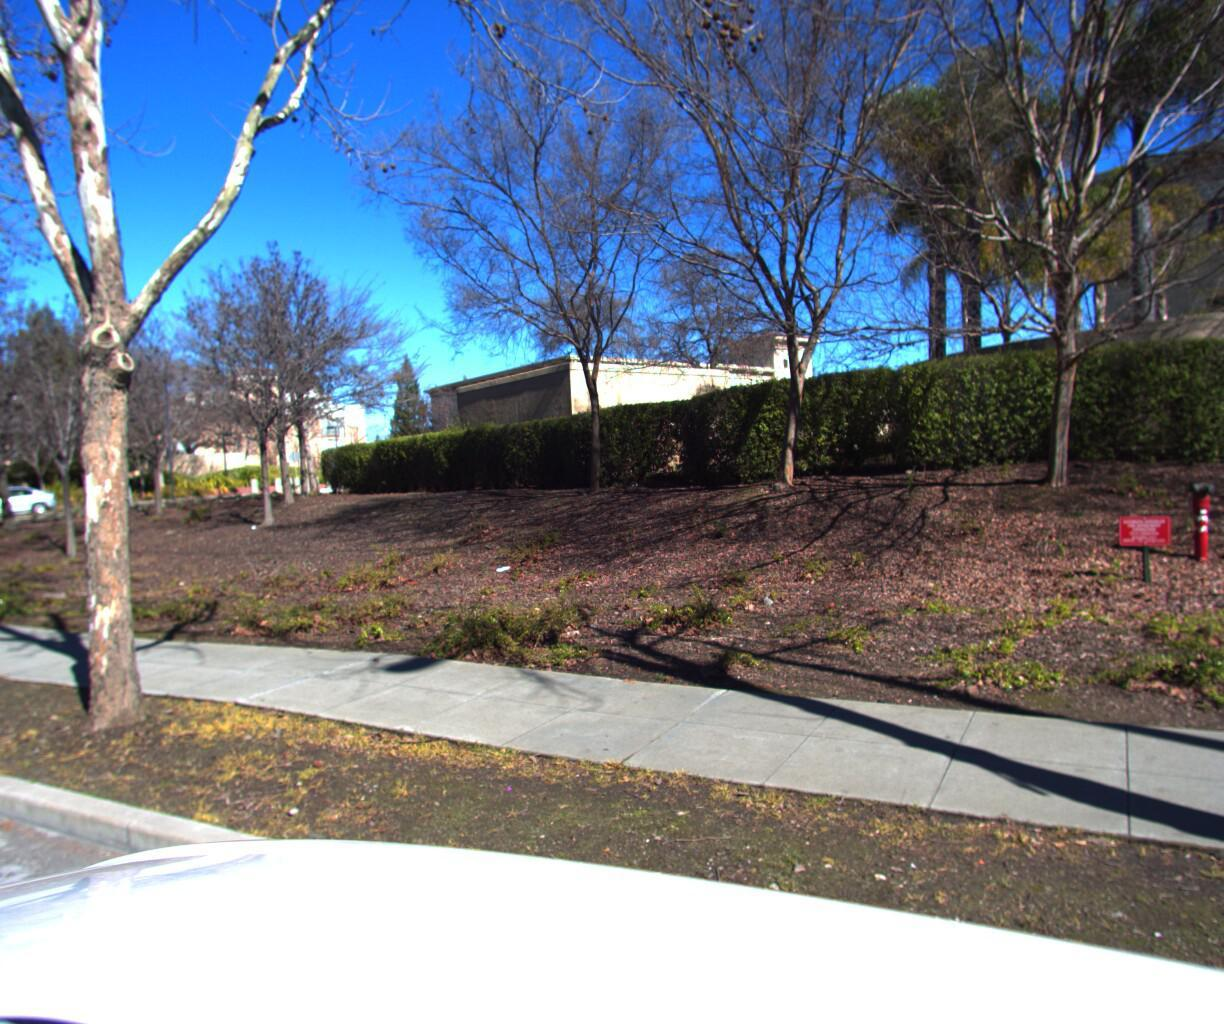car: (0, 484, 67, 525), (0, 477, 2, 530)
